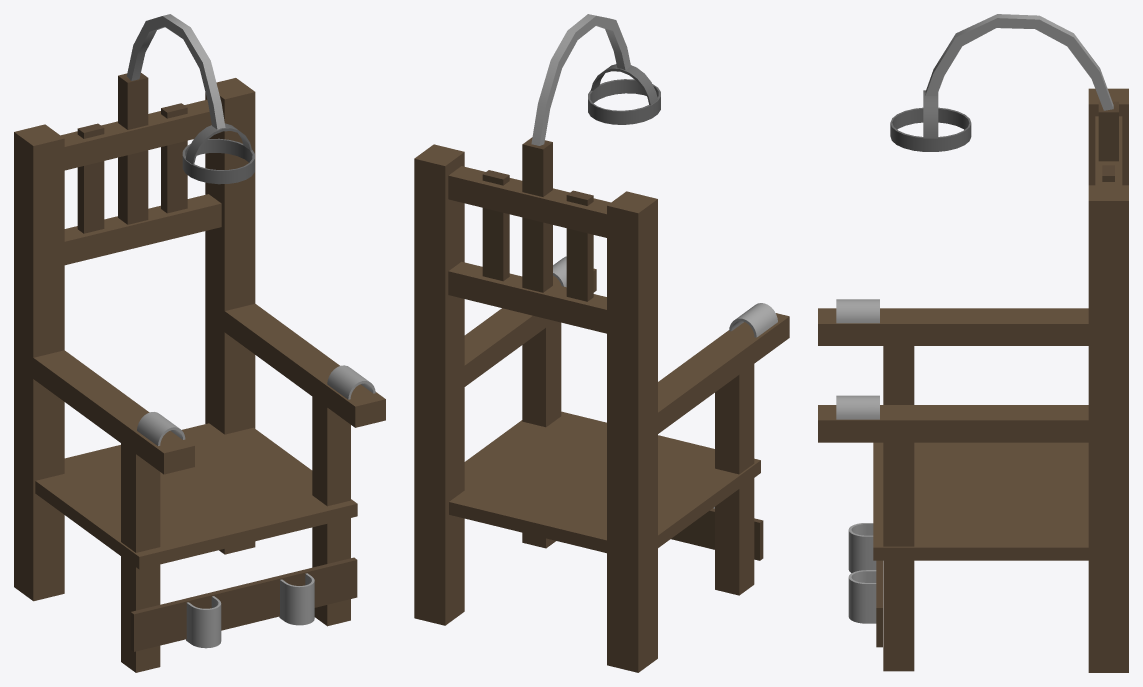
The model's file is scene_jXDzGuQs9D.glb.
3 renders of one model, left to right at view 1: azimuth 30°, elevation 25°; view 2: azimuth 150°, elevation 25°; view 3: azimuth 270°, elevation 25°, orthographic. The views are drawn at different scales.
Parts seen in each view (by area): view 1: torture_device_002; view 2: torture_device_002; view 3: torture_device_002.
Boxes of the visible parts, x1,y1,x2,y2 form: torture_device_002: (14, 14, 385, 672); torture_device_002: (414, 14, 789, 672); torture_device_002: (818, 14, 1128, 672).
Size of the model in its own units: 0.7413 by 1.83 by 0.8596.
